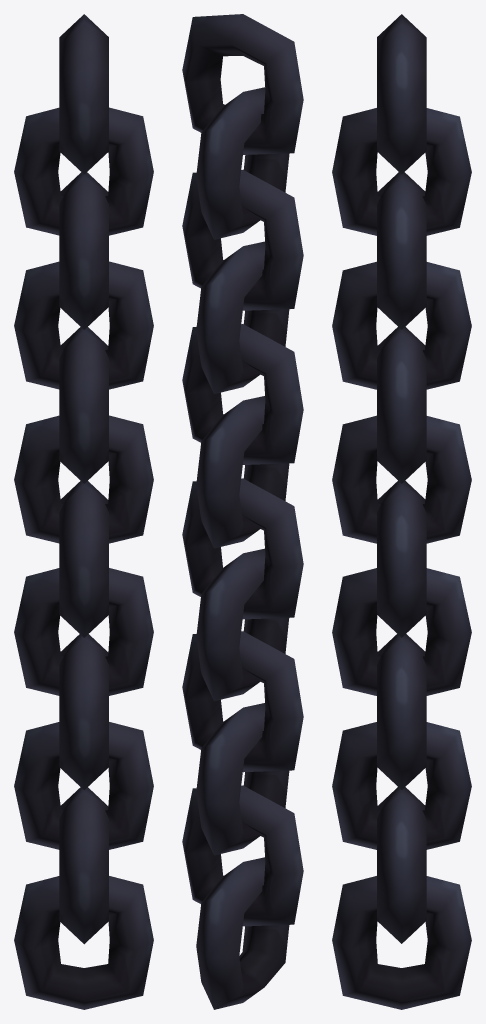
The model's file is Dg_01_chain_002.FBX.
3 renders of one model, left to right at view 1: azimuth 90°, elevation 25°; view 2: azimuth 150°, elevation 25°; view 3: azimuth 270°, elevation 25°, orthographic.
Parts seen in each view (by area): view 1: Dg_01_chain_002; view 2: Dg_01_chain_002; view 3: Dg_01_chain_002.
Boxes of the visible parts, box(x1,y1,x2,y2) form: Dg_01_chain_002: box(14, 14, 153, 1009); Dg_01_chain_002: box(182, 14, 303, 1009); Dg_01_chain_002: box(332, 14, 471, 1009).
Bounding box in the file's own units: 0.4514 × 3.51 × 0.4514.
